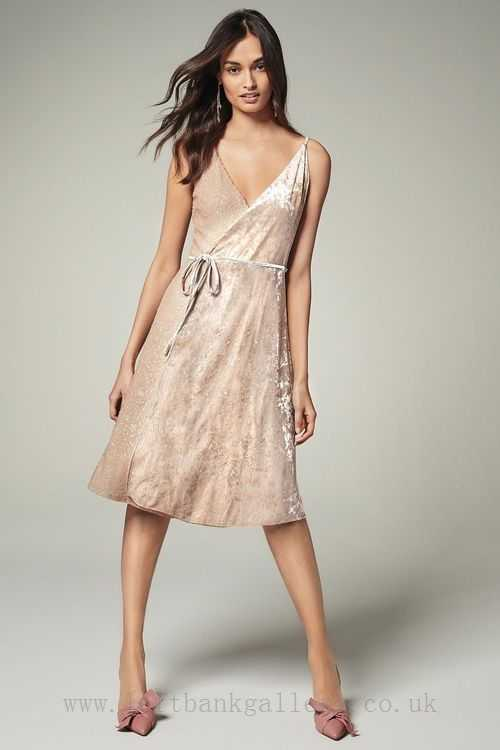C_dress: (89, 132, 326, 538)
